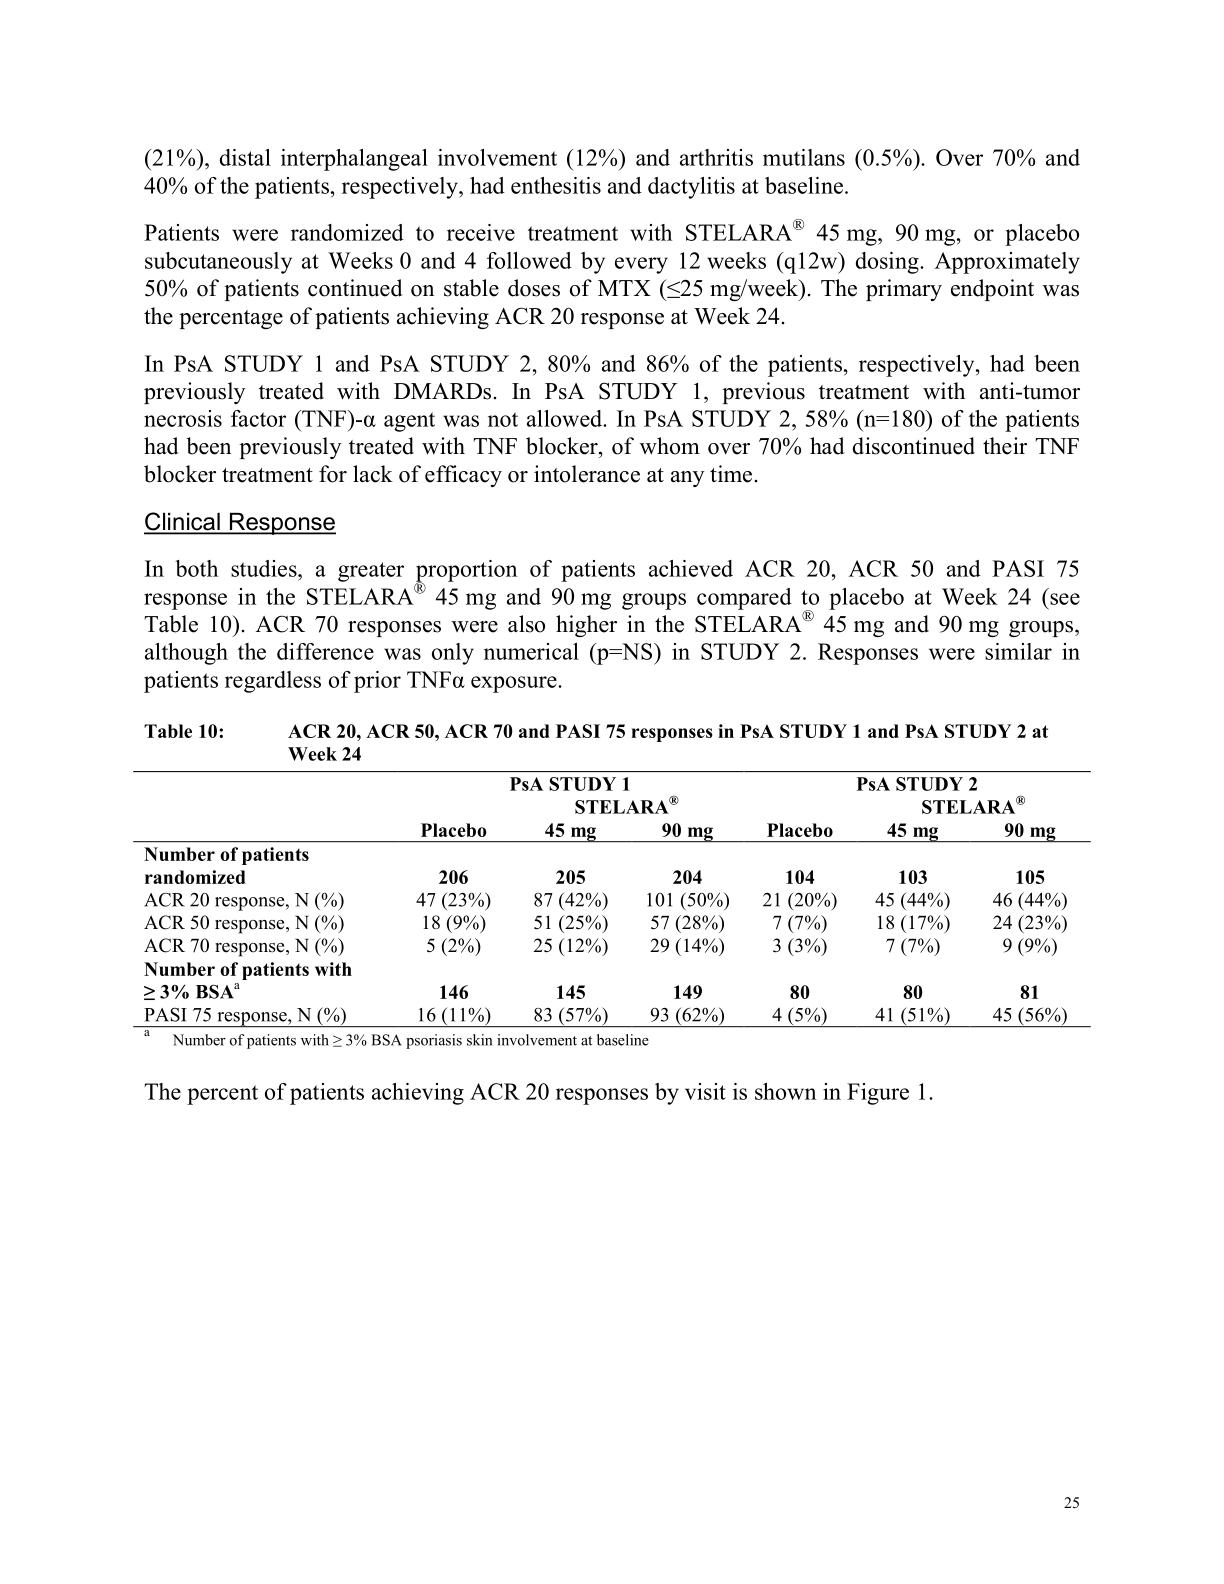partial_lined_merged_cells: (129, 768, 1095, 1032)
